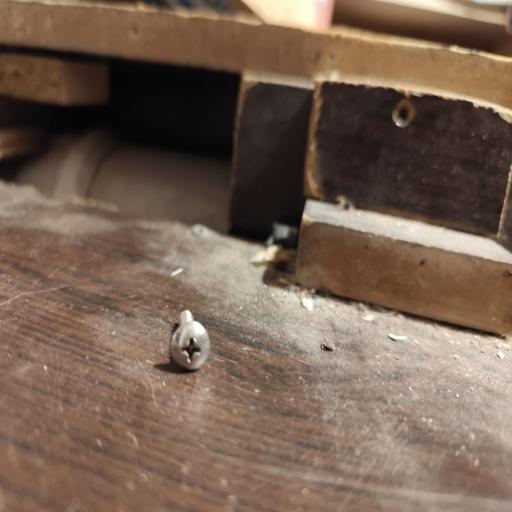Phillips: (173, 318, 210, 367)
